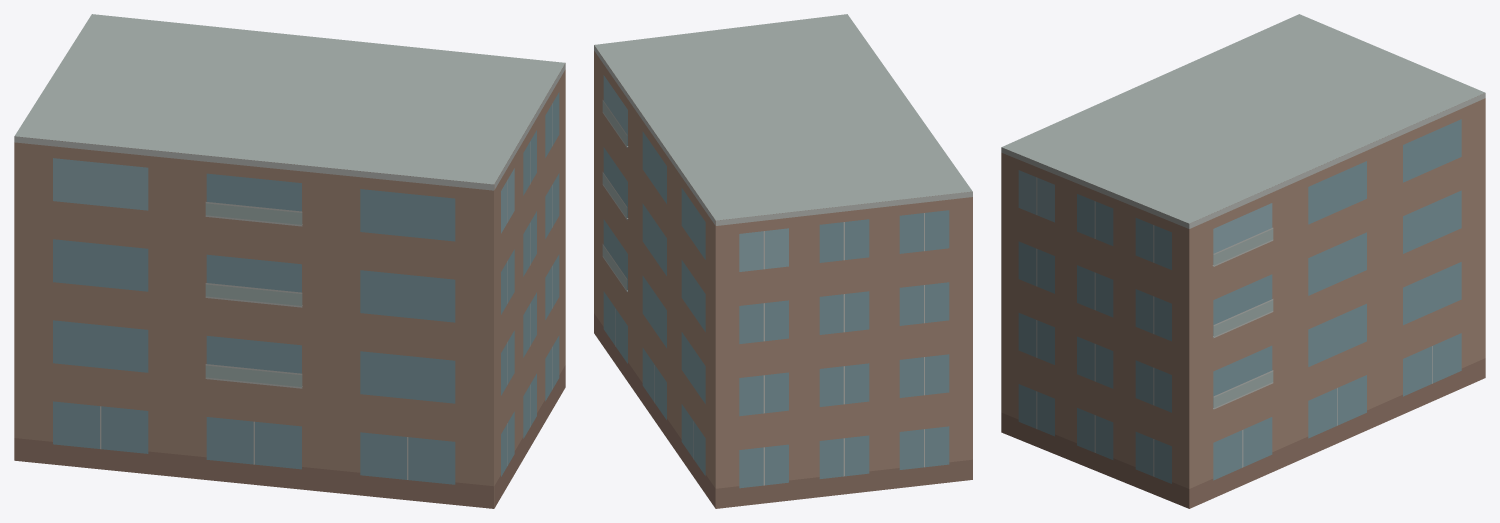
The model's file is survey-upis-32888371.glb.
The picture shows the model from 3 angles, left to right: view 1: azimuth 30°, elevation 25°; view 2: azimuth 150°, elevation 25°; view 3: azimuth 270°, elevation 25°; orthographic projection. The views are drawn at different scales.
Parts seen in each view (by area): view 1: survey-upis-32888371.tmp; view 2: survey-upis-32888371.tmp; view 3: survey-upis-32888371.tmp.
Boxes of the visible parts, left/top/right/bottom form: survey-upis-32888371.tmp: left=14, top=14, right=565, bottom=508; survey-upis-32888371.tmp: left=594, top=14, right=972, bottom=508; survey-upis-32888371.tmp: left=1001, top=14, right=1485, bottom=508.
Size of the model in its own units: 20.19 by 12.8 by 19.69.
